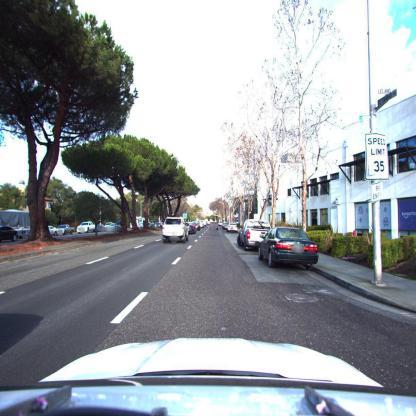car: (0, 336, 416, 416), (257, 226, 319, 270), (238, 219, 272, 250), (0, 209, 30, 241), (98, 222, 122, 234), (50, 225, 74, 237), (78, 223, 96, 234), (189, 221, 199, 232), (227, 223, 237, 231), (219, 223, 228, 230)
truck: (162, 217, 189, 244)
